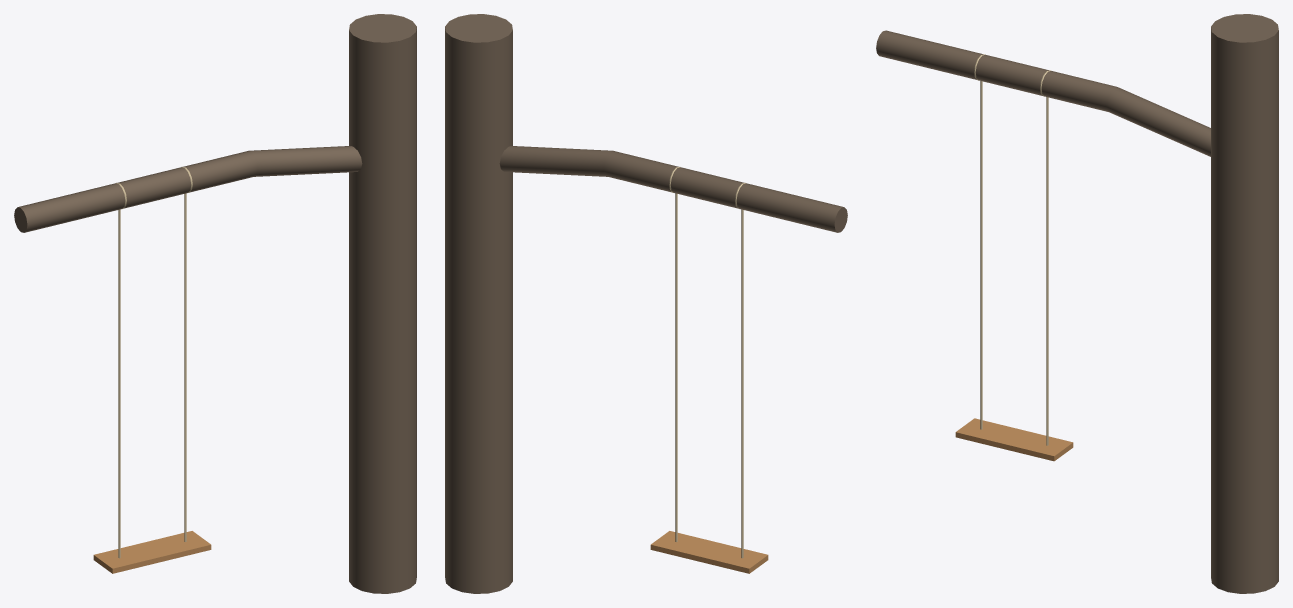
The model's file is swing_plank.glb.
The picture shows the model from 3 angles, left to right: view 1: azimuth 30°, elevation 25°; view 2: azimuth 150°, elevation 25°; view 3: azimuth 330°, elevation 25°; orthographic projection.
Visible parts, largest first — view 1: swing_plank, seat_swing_plank; view 2: swing_plank, seat_swing_plank; view 3: swing_plank, seat_swing_plank.
Boxes of the visible parts, x1=… form: swing_plank: x1=14, y1=14, x2=416, y2=593; seat_swing_plank: x1=93, y1=193, x2=211, y2=573; swing_plank: x1=445, y1=14, x2=847, y2=593; seat_swing_plank: x1=650, y1=193, x2=768, y2=573; swing_plank: x1=876, y1=14, x2=1278, y2=593; seat_swing_plank: x1=955, y1=81, x2=1073, y2=461.
Size of the model in its own units: 2.38 by 3.2 by 0.36.
